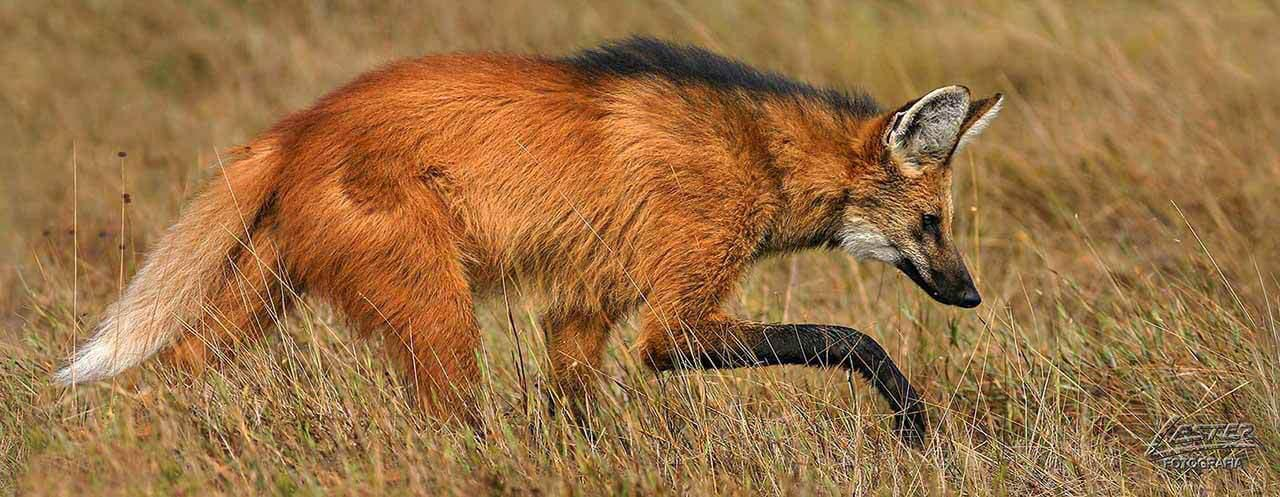LoboGuara: (64, 33, 1020, 465)
